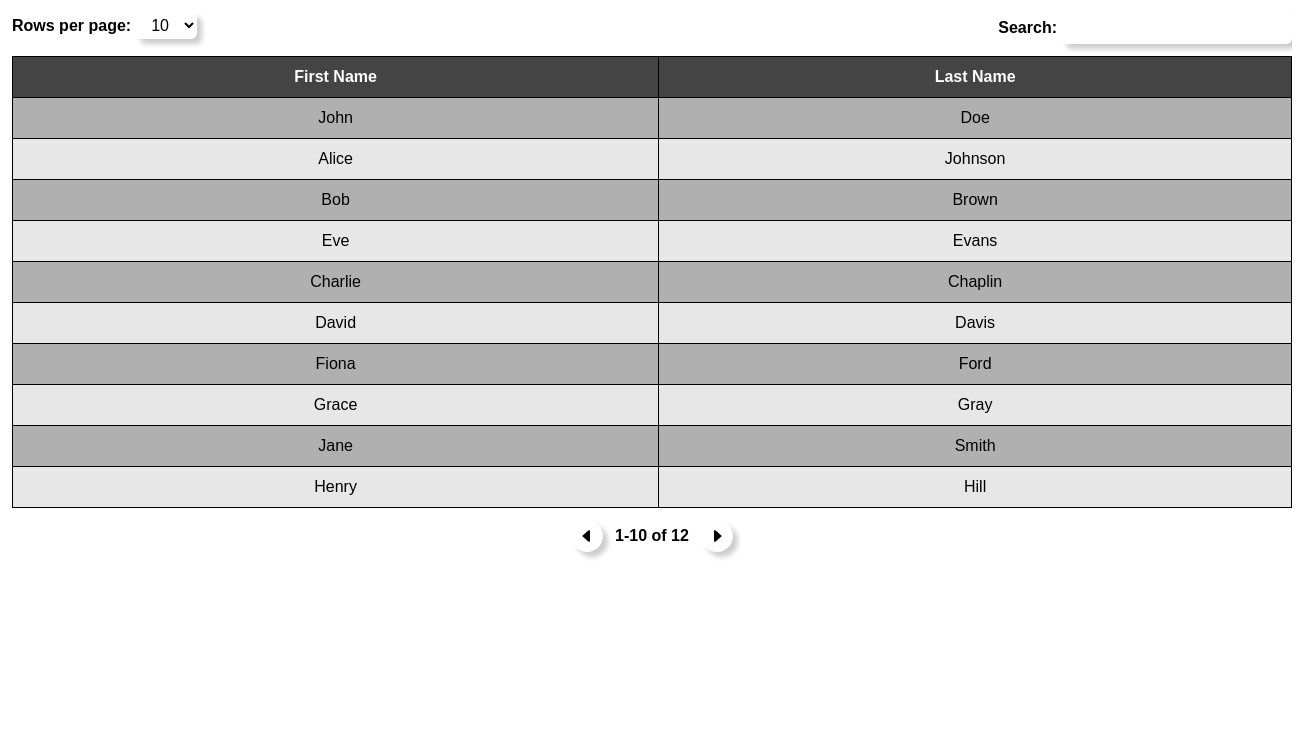
it: <DataTable/> › filters data based on input
The width and height of the screenshot is (1304, 732).
Type "John" into the field with test id "filter".
click(1176, 28); type("John")  # box x1=1061 y1=12 x2=1292 y2=44
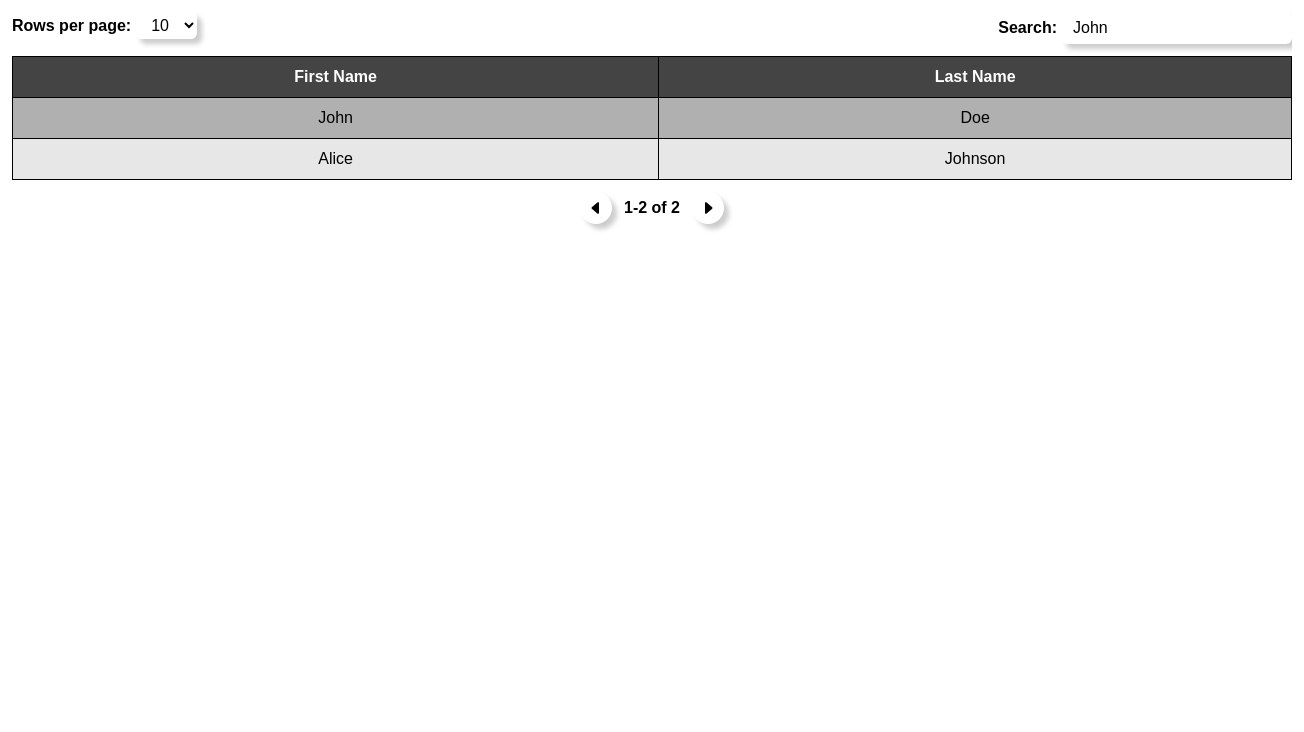
expect the text "John" is shown: met, box x1=12 y1=98 x2=659 y2=138
expect the text "Jane" is gone: met
